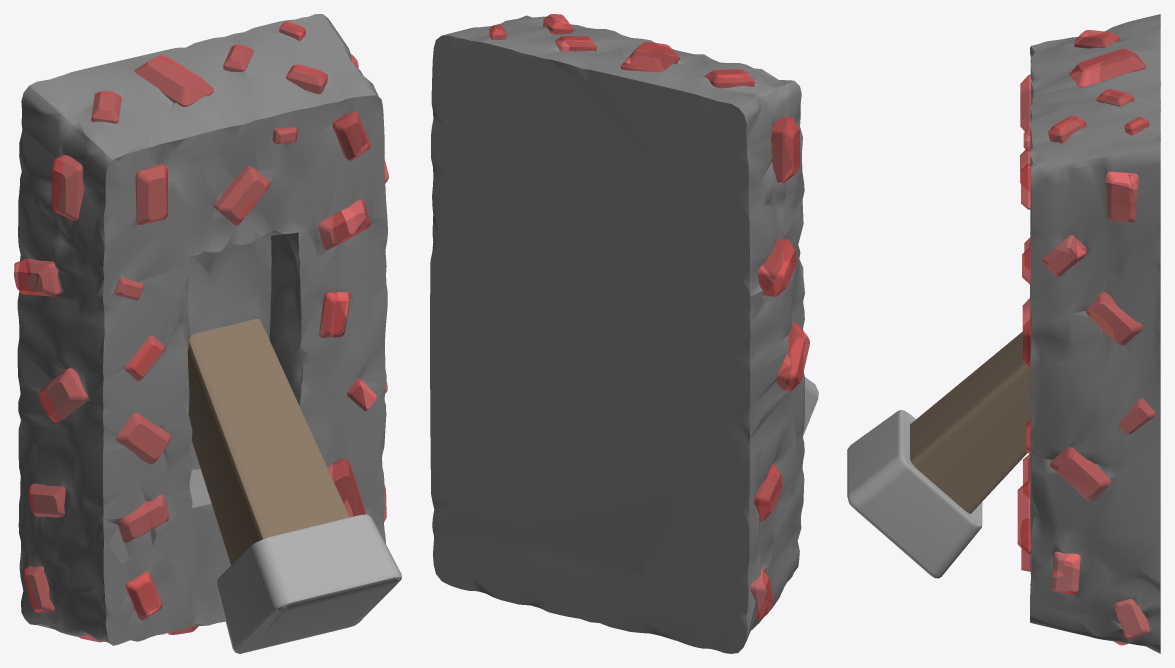
Rendered from Leaver.fbx.
The picture shows the model from 3 angles, left to right: view 1: azimuth 30°, elevation 25°; view 2: azimuth 150°, elevation 25°; view 3: azimuth 270°, elevation 25°; orthographic projection. The views are drawn at different scales.
Parts seen in each view (by area): view 1: polySurface1, pCube2; view 2: polySurface1; view 3: polySurface1, pCube2.
Boxes of the visible parts, x1=… form: polySurface1: x1=14, y1=14, x2=388, y2=645; pCube2: x1=187, y1=318, x2=401, y2=653; polySurface1: x1=430, y1=14, x2=809, y2=653; polySurface1: x1=1017, y1=14, x2=1160, y2=653; pCube2: x1=847, y1=307, x2=1113, y2=578.
Size of the model in its own units: 7.13 by 11.25 by 6.05.
